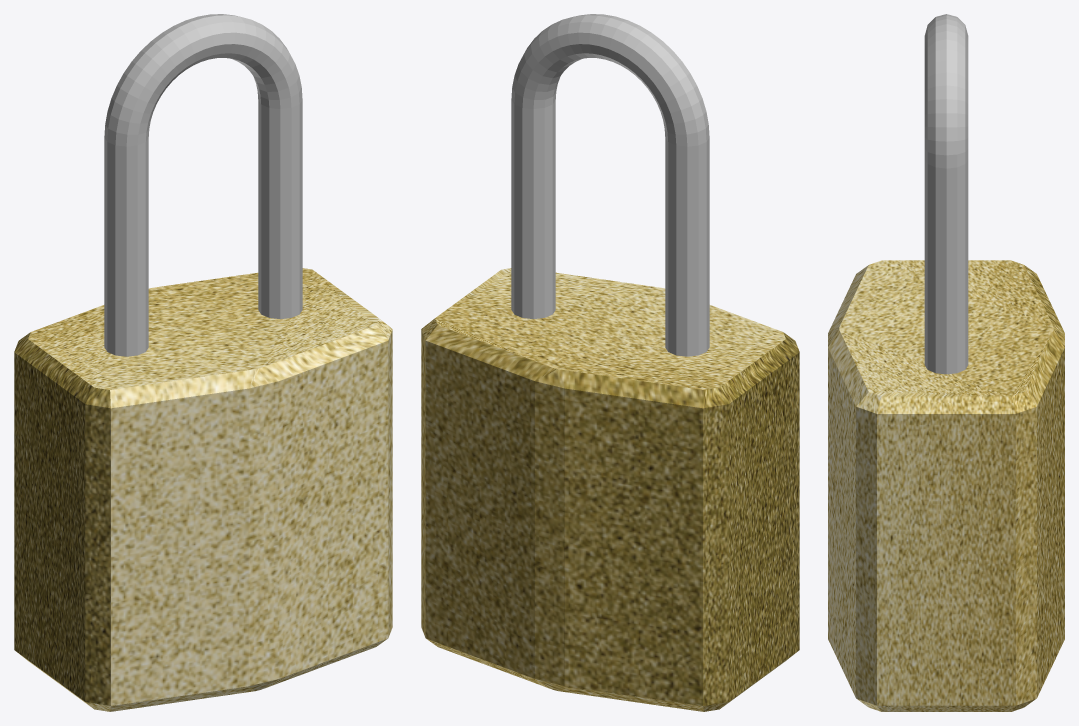
Rendered from Lock.obj.
3 renders of one model, left to right at view 1: azimuth 30°, elevation 25°; view 2: azimuth 150°, elevation 25°; view 3: azimuth 270°, elevation 25°, orthographic. The views are drawn at different scales.
Parts seen in each view (by area): view 1: Cube; view 2: Cube; view 3: Cube.
Part boxes in pixels (x1,y1,x2,y2): Cube: (14, 14, 392, 711); Cube: (421, 14, 799, 711); Cube: (828, 14, 1064, 711).
Bounding box in the file's own units: 0.2 × 0.393 × 0.1361.
